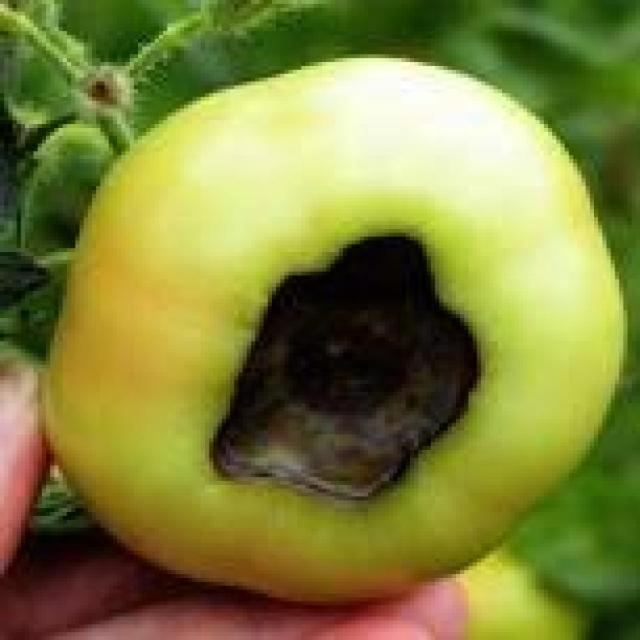Blossom End Rot Fruit: (135, 149, 317, 337)
